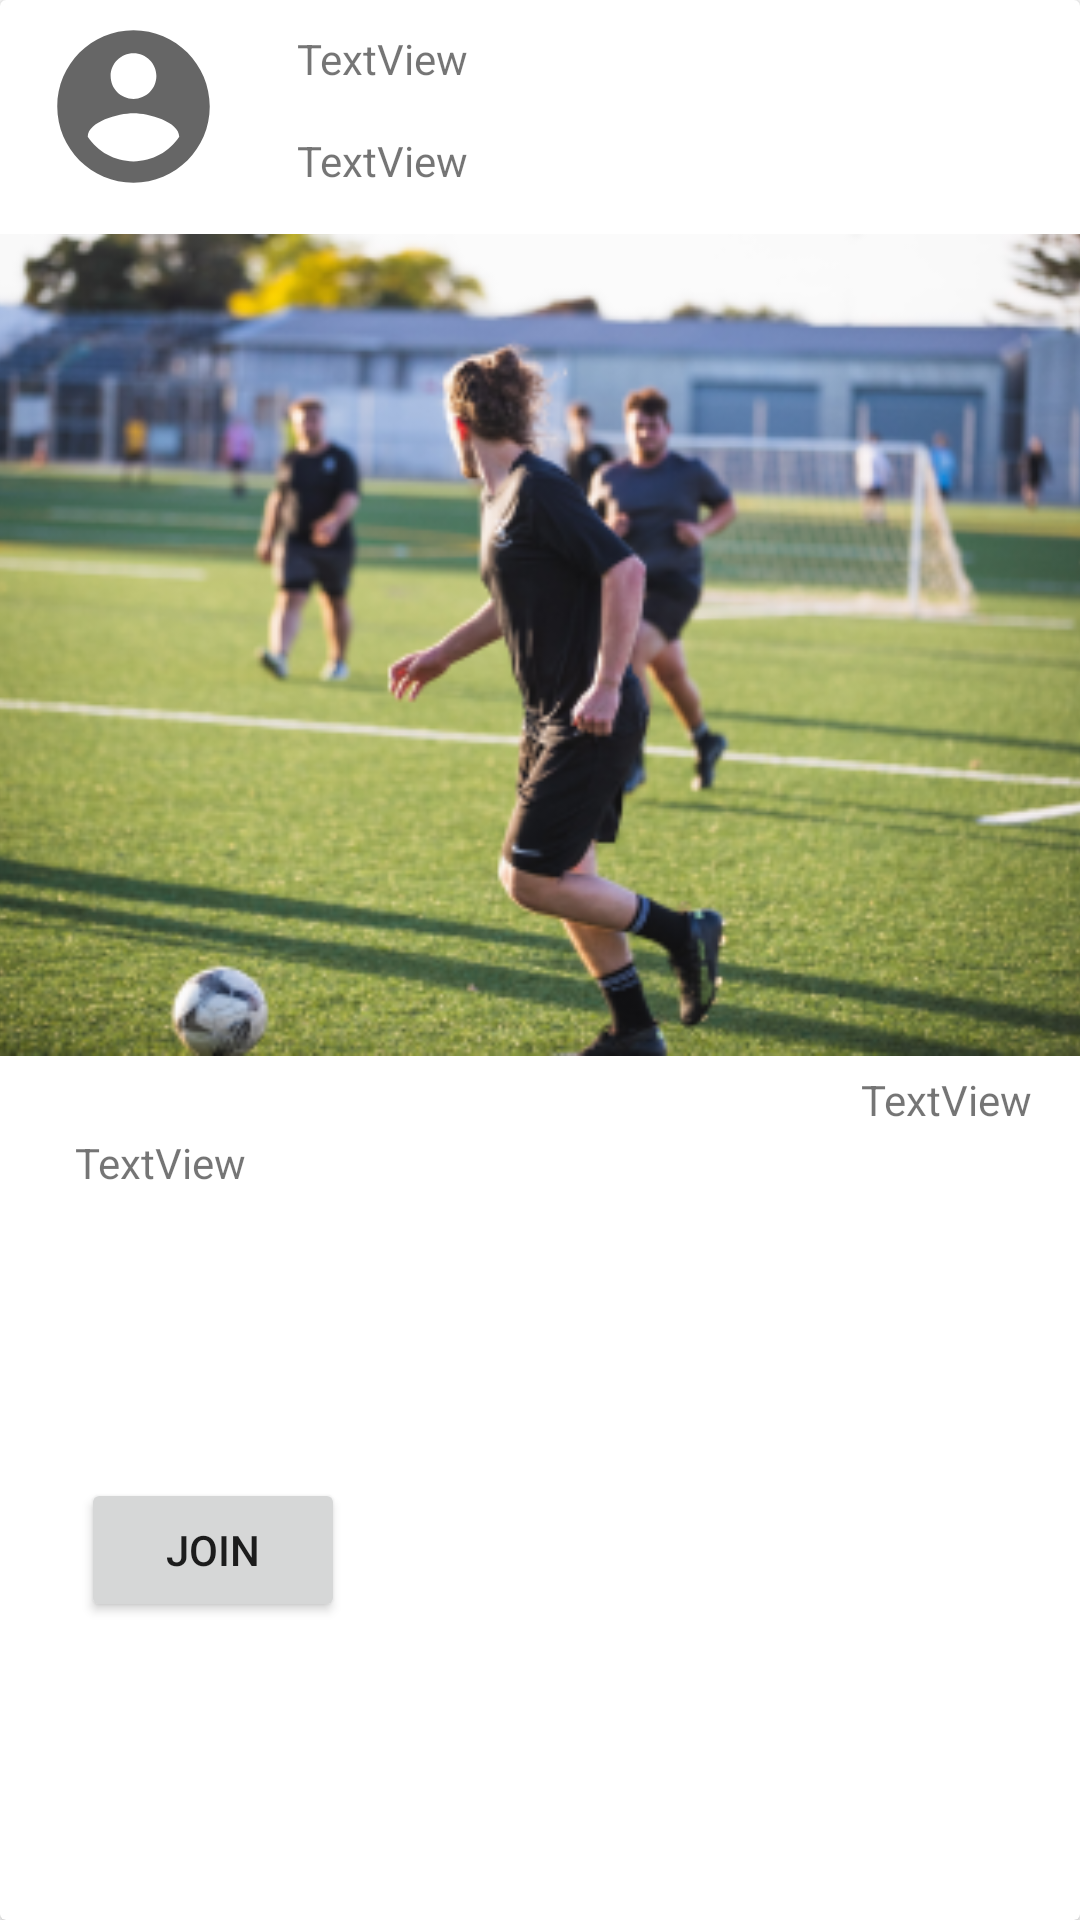

Icons on this 1080px x 1920px Android screen, each with the point to tap as (x=x, y=y):
account circle: (x=133, y=106)
